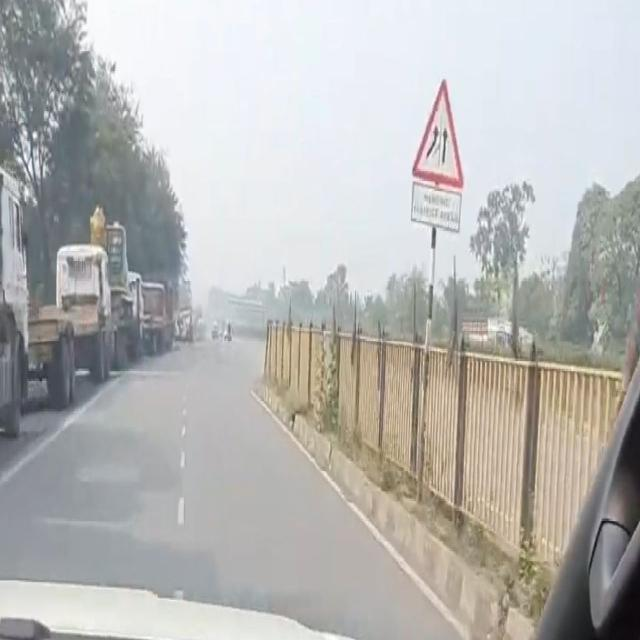merging_traffic_from_left: (412, 80, 469, 182)
